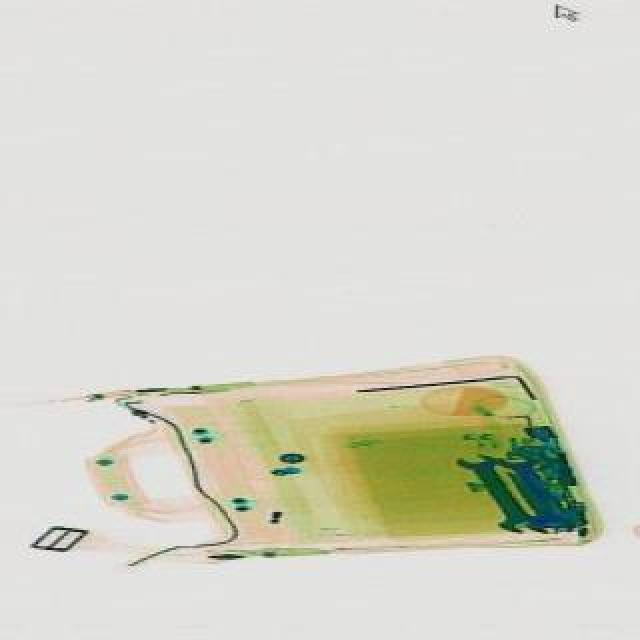scissors: (446, 442, 538, 542), (488, 442, 572, 544)
